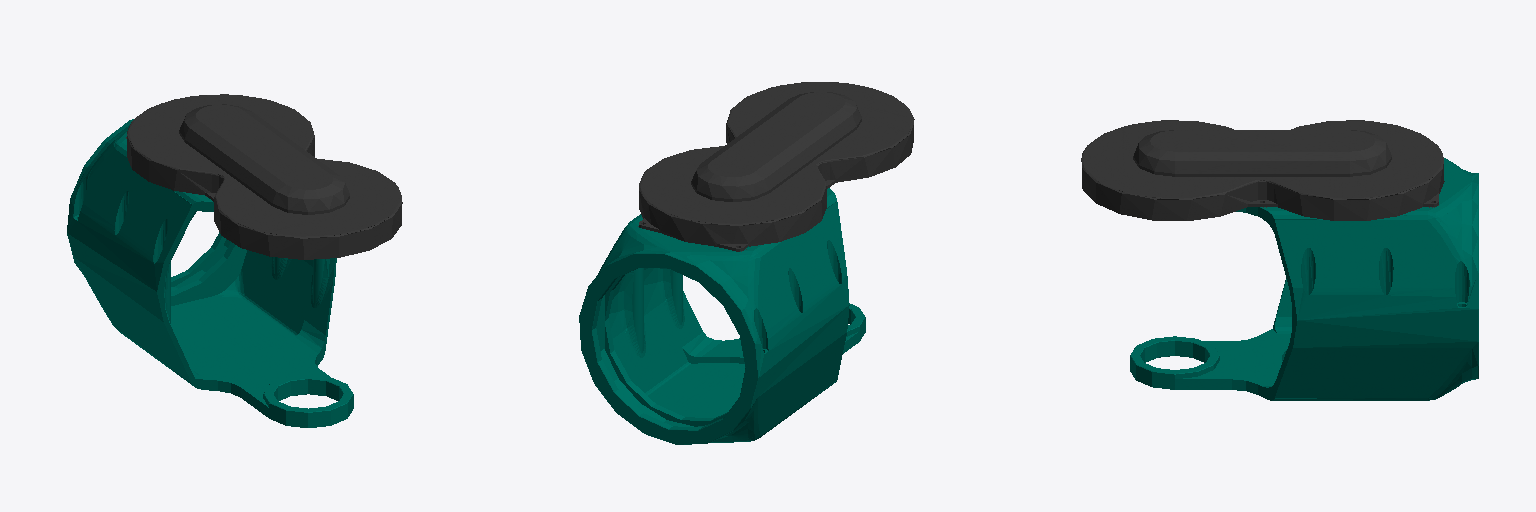
The picture shows the model from 3 angles: view 1: azimuth 30°, elevation 25°; view 2: azimuth 150°, elevation 25°; view 3: azimuth 270°, elevation 25°; orthographic projection.
Bounding box in the file's own units: 0.125 × 0.152 × 0.2382.
Materials: 1 (1 with a texture image).